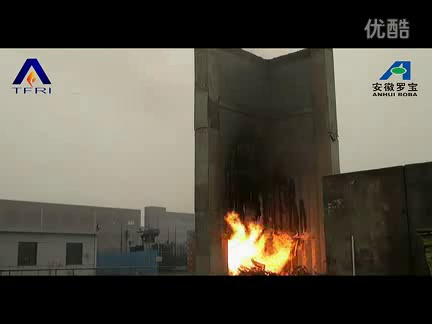fire: (218, 205, 307, 275)
